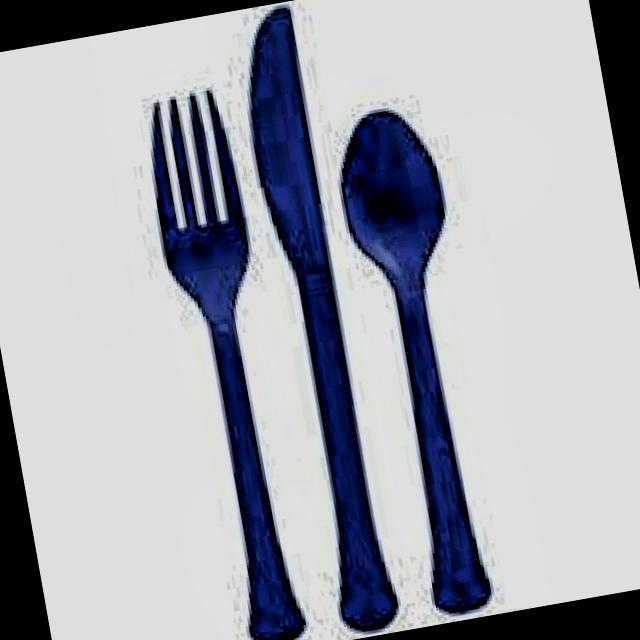plastic utensil: (251, 6, 397, 629), (155, 91, 305, 640), (344, 111, 490, 610)
